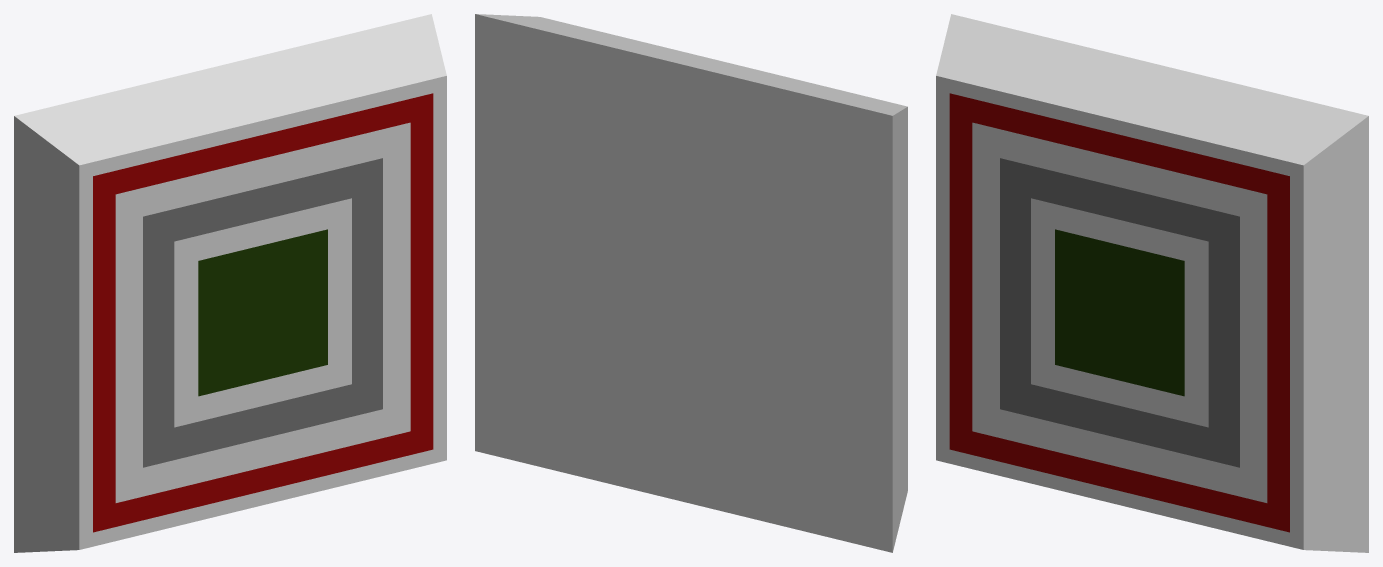
Rendered from SciFi_Semiotic_Organic_Storage_01.fbx.
3 views of the same model, side by side, from view 1: azimuth 30°, elevation 25°; view 2: azimuth 150°, elevation 25°; view 3: azimuth 330°, elevation 25° (orthographic).
Visible parts, largest first — view 1: Model; view 2: Model; view 3: Model.
Boxes of the visible parts, box(x1,y1,x2,y2) form: Model: box(14, 14, 446, 552); Model: box(475, 14, 907, 552); Model: box(936, 14, 1368, 552).
Size of the model in its own units: 251 by 251 by 41.83.
